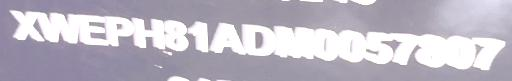letter: (37, 9, 81, 46), (276, 25, 316, 60), (8, 7, 44, 42), (212, 22, 246, 57), (244, 22, 278, 57), (134, 17, 166, 52), (446, 35, 478, 70), (474, 35, 506, 70), (105, 14, 135, 51), (78, 13, 110, 46), (366, 31, 394, 66), (394, 33, 422, 66), (420, 33, 446, 68), (315, 27, 341, 60), (340, 30, 366, 63), (166, 18, 190, 51), (188, 21, 210, 54)
